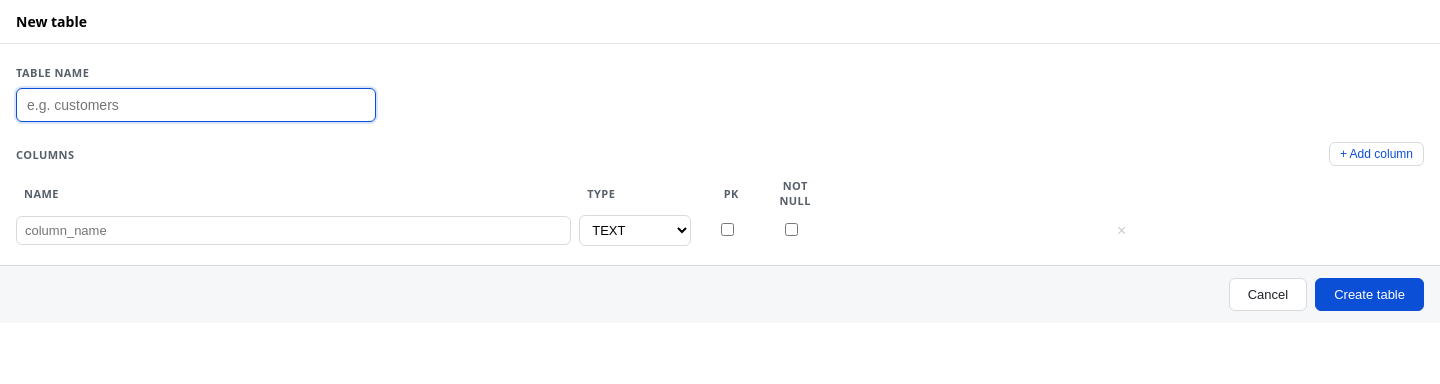
Scenario: TableForm (create mode) › rejects a name that collides with an existing table (case-insensitive)
Type "users" into the field labelled "Table name" at (196, 105), box [16,88,376,122]
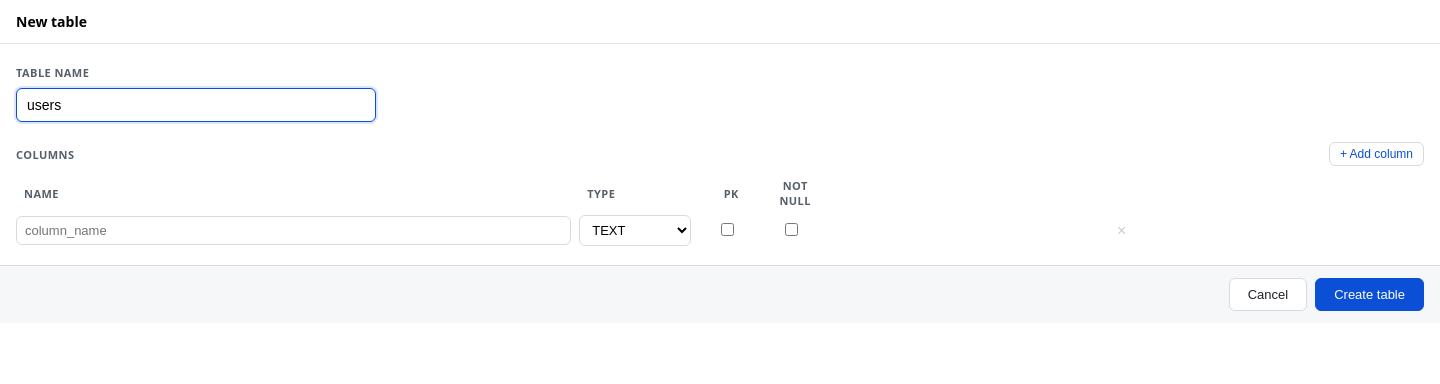
Type "id" into the field named "Column name" at (294, 230), box [16,216,571,245]
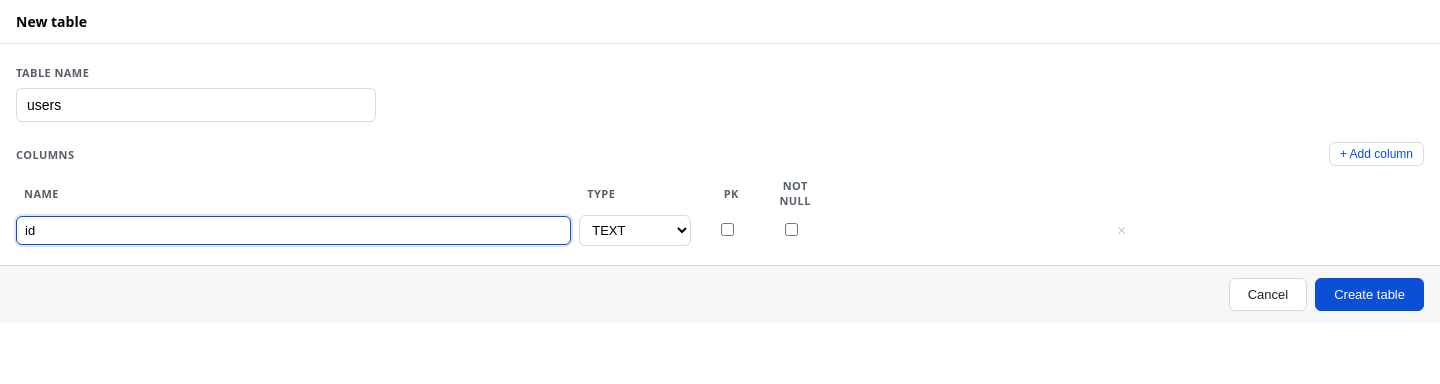
Click the button "Create table" at (1370, 294), box [1315,278,1424,311]
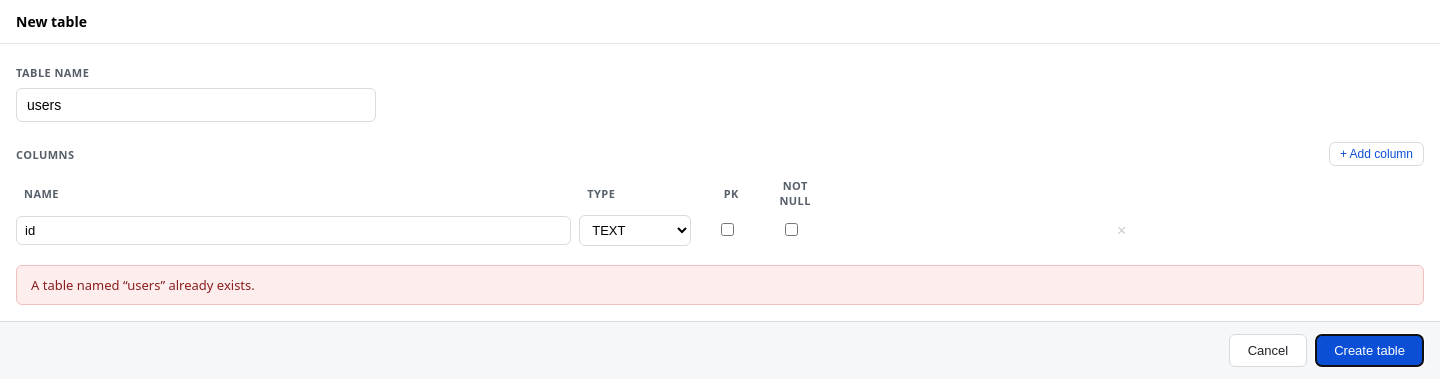
Result: the text "A table named “users” already exists." is shown at [16,265,1424,305]
